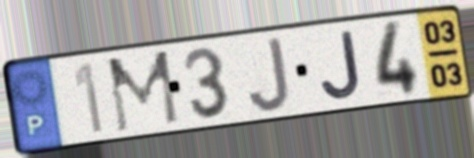1: (72, 58, 106, 137)
3: (182, 44, 235, 122)
4: (371, 17, 423, 99)
J: (246, 34, 293, 115), (317, 27, 364, 103)
M: (104, 48, 183, 136)
